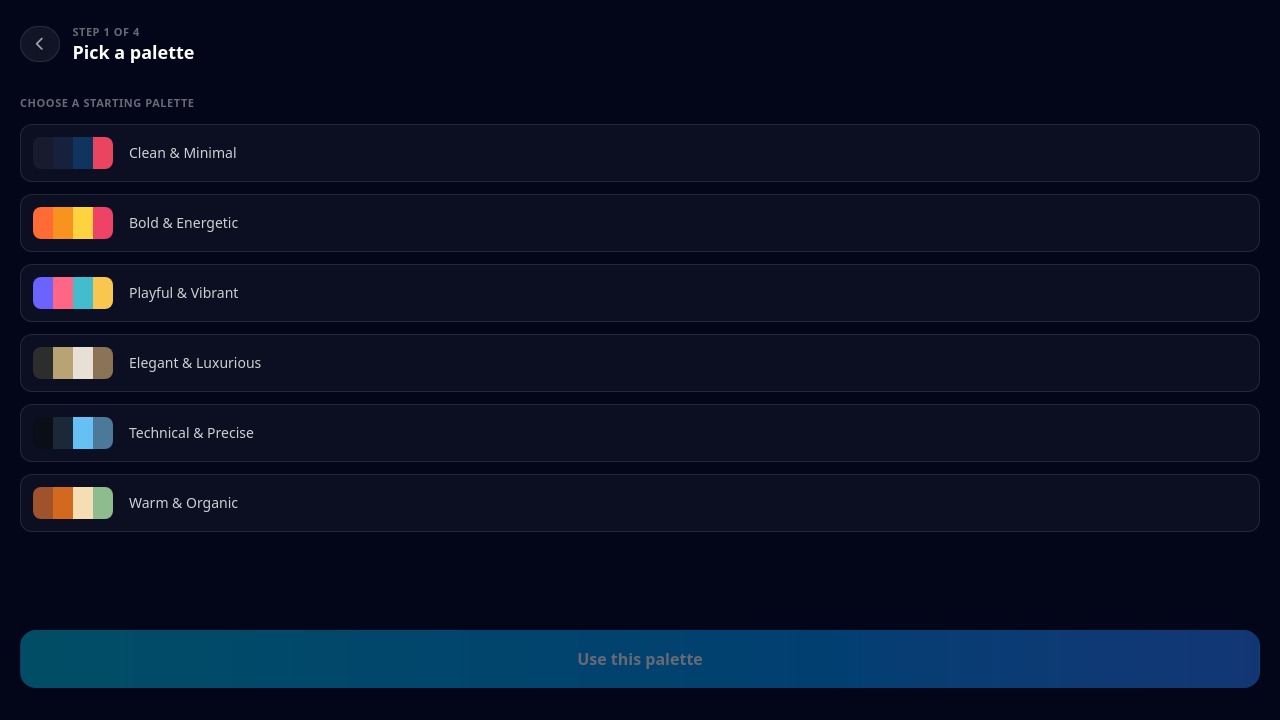
Scenario: MobileColorPickStep › enables the CTA after a palette is selected
Click the button "Clean & Minimal".
click(183, 152)  # box [20,124,1260,182]
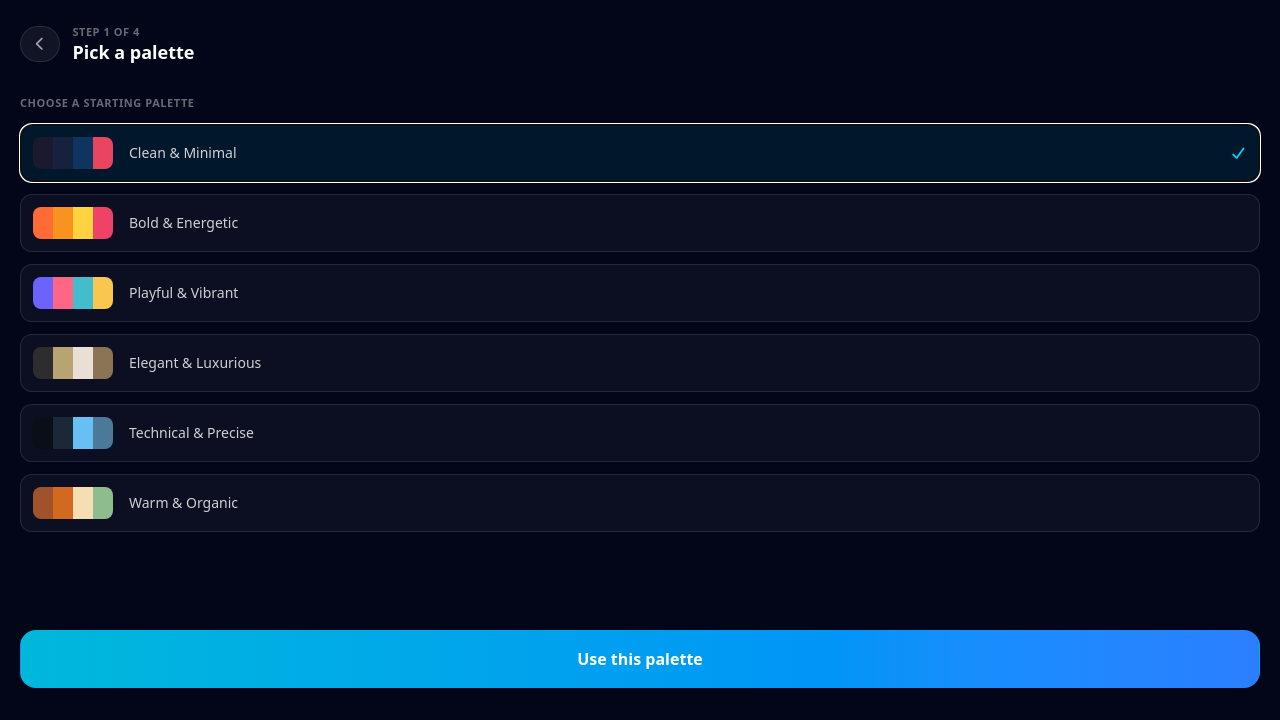
Expected: the button "Use this palette" is enabled, [20,630,1260,688]
